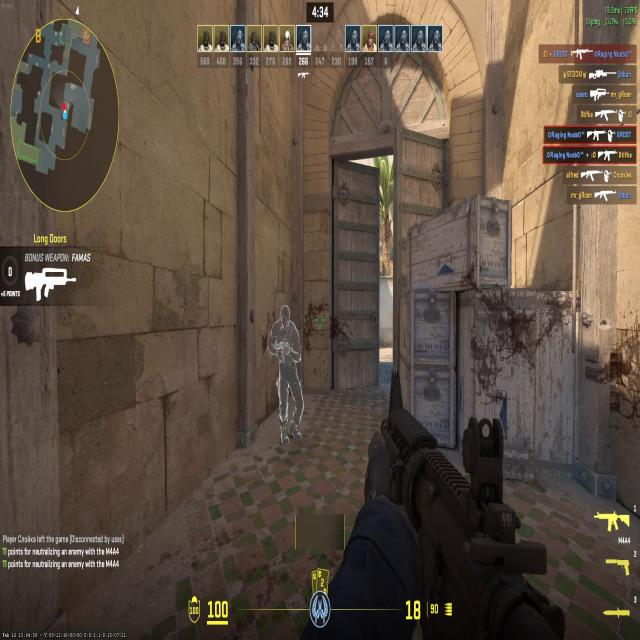player: (260, 300, 316, 458)
